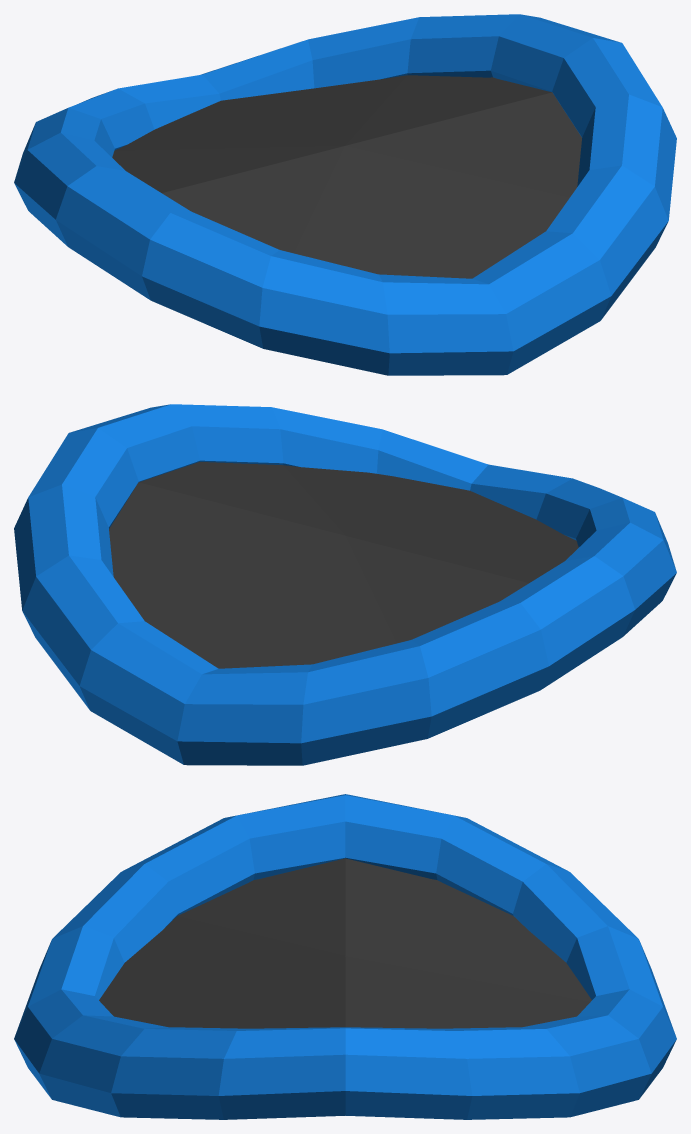
File: Rocket Part_Window.fbx
3 renders of one model, top to bottom at view 1: azimuth 30°, elevation 25°; view 2: azimuth 150°, elevation 25°; view 3: azimuth 270°, elevation 25°, orthographic.
Parts seen in each view (by area): view 1: PART_Window; view 2: PART_Window; view 3: PART_Window.
Boxes of the visible parts, x1=… form: PART_Window: x1=14, y1=14, x2=676, y2=375; PART_Window: x1=14, y1=404, x2=676, y2=765; PART_Window: x1=14, y1=794, x2=676, y2=1119.
Size of the model in its own units: 467 by 129 by 467.
